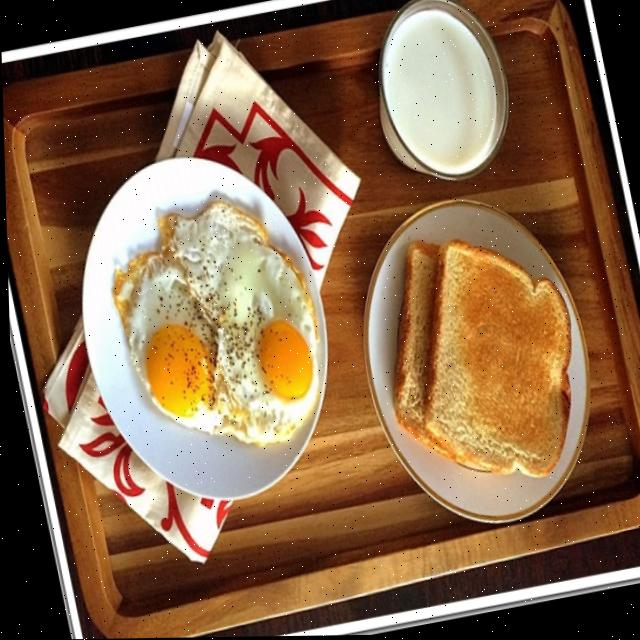Bread: (421, 243, 567, 479), (390, 241, 451, 459)
Egg: (159, 201, 315, 445), (111, 215, 222, 433)
